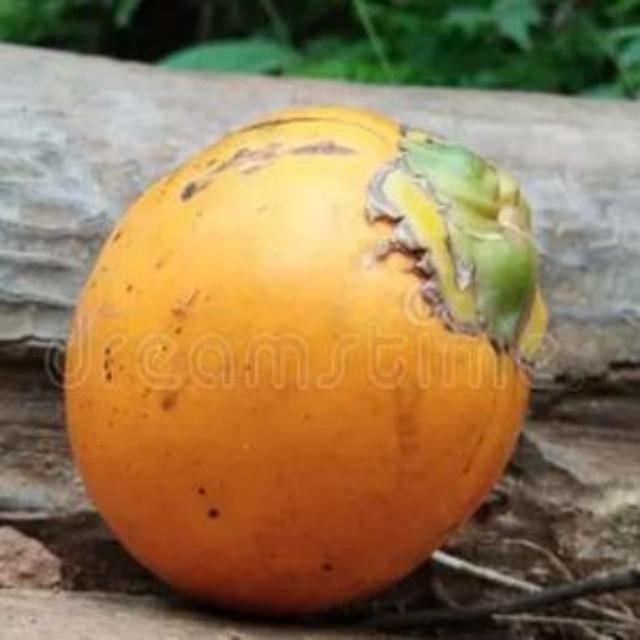good: (62, 109, 550, 621)
